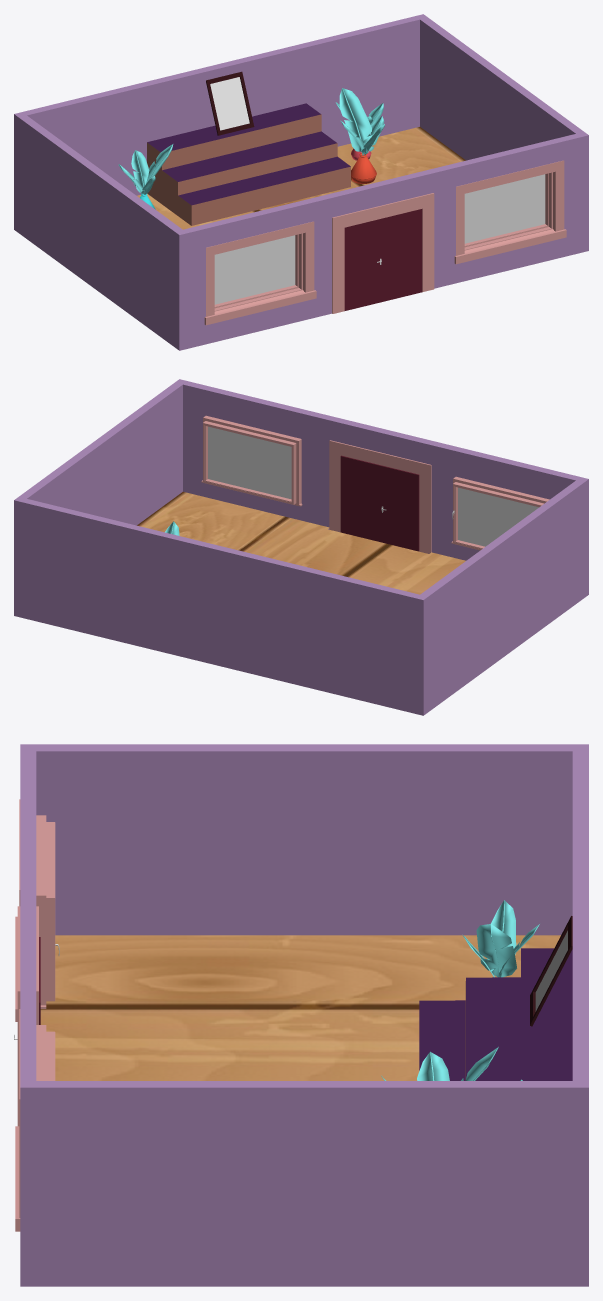
The model's file is chibi character TOwn 01 abuela House finals.fbx.
3 renders of one model, top to bottom at view 1: azimuth 30°, elevation 25°; view 2: azimuth 150°, elevation 25°; view 3: azimuth 270°, elevation 25°, orthographic. The views are drawn at different scales.
Visible parts, largest first — view 1: Wall, Window Panel, Cube.001, Plane.001, Plane, Plane.003; view 2: Wall, Window Panel; view 3: Wall, Cube.001, Window Panel, Plane.003, Plane, Plane.001.
Boxes of the visible parts, x1,y1,x2,y2 form: Wall: (14,14,588,350); Window Panel: (204,160,566,325); Cube.001: (147,103,350,225); Plane.001: (339,88,384,183); Plane: (206,71,254,135); Plane.003: (118,144,173,209); Wall: (14,379,588,715); Window Panel: (201,415,549,553); Wall: (20,744,588,1286); Cube.001: (419,948,572,1080); Window Panel: (15,799,55,1231); Plane.003: (462,900,539,977); Plane: (530,916,572,1026); Plane.001: (381,1047,498,1080).
Size of the model in its own units: 1000 by 270 by 708.
20 materials, 2 textured.
